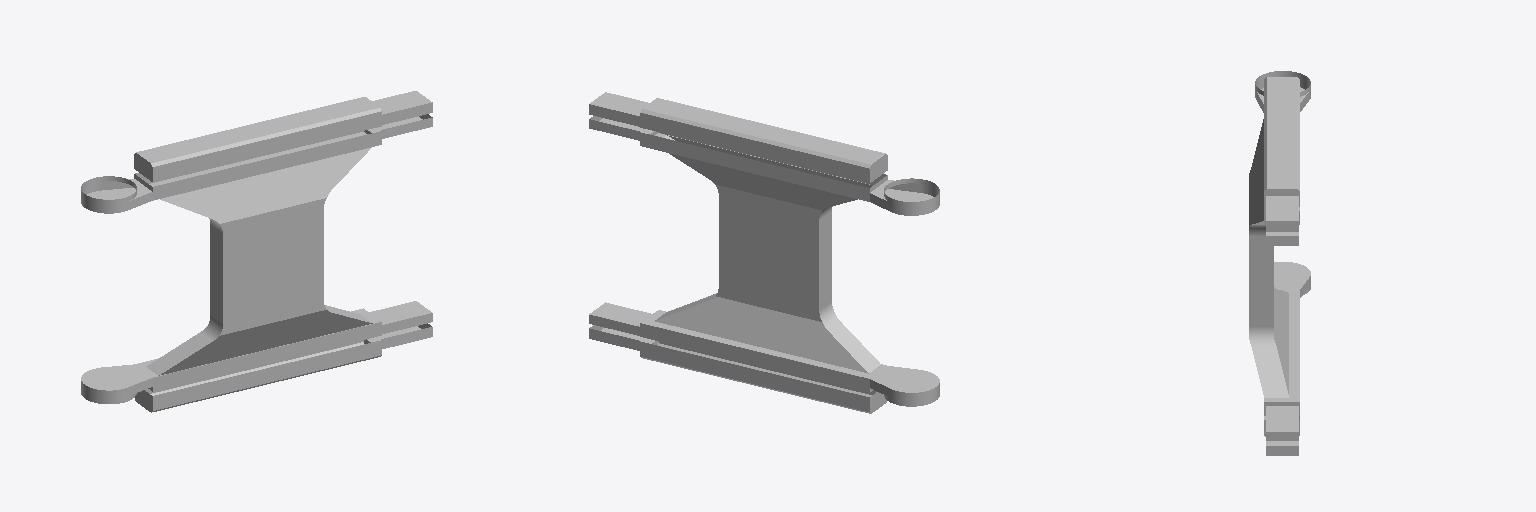
Rendered from meshbody39_rviz.obj.
3 renders of one model, left to right at view 1: azimuth 30°, elevation 25°; view 2: azimuth 150°, elevation 25°; view 3: azimuth 270°, elevation 25°, orthographic.
Parts seen in each view (by area): view 1: meshbody39_rviz\Facets; view 2: meshbody39_rviz\Facets; view 3: meshbody39_rviz\Facets.
Part boxes in pixels (x1,y1,x2,y2): meshbody39_rviz\Facets: (81,91,432,412); meshbody39_rviz\Facets: (589,92,939,413); meshbody39_rviz\Facets: (1249,71,1310,455).
Size of the model in its own units: 3.31 by 2.33 by 0.5239.